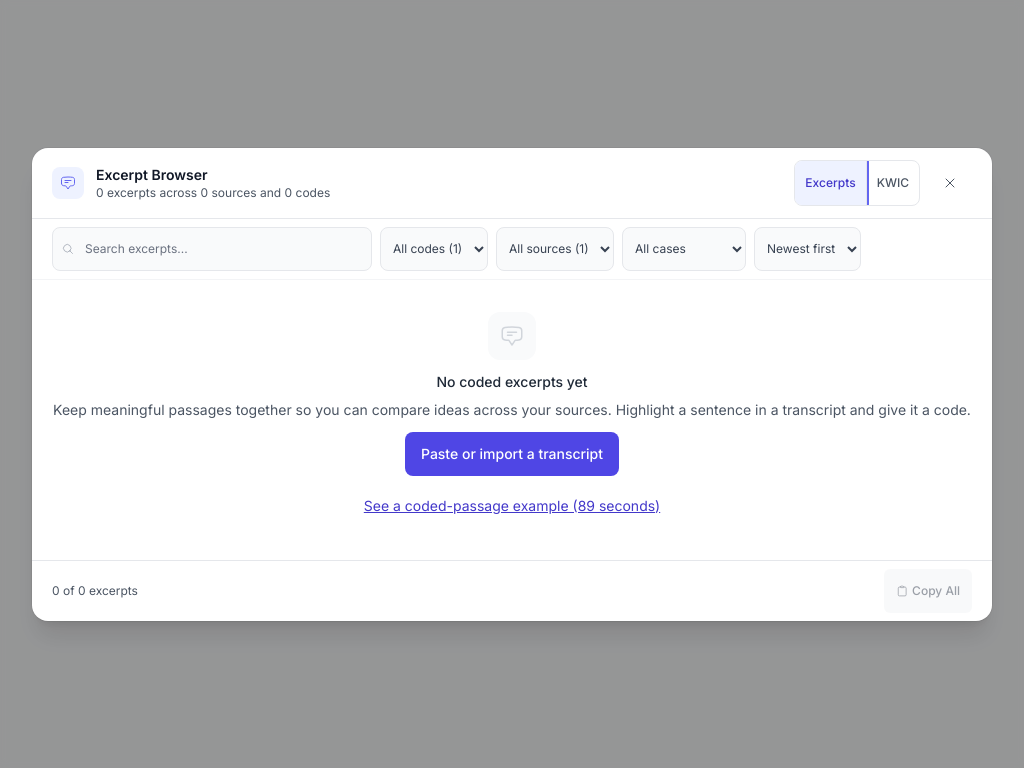
excerpt browser first-run and recovery › teaches keyword search and trims accidental surrounding spaces
This screenshot has width=1024, height=768.
Click the button "KWIC" at (892, 182), box [866, 160, 919, 204]
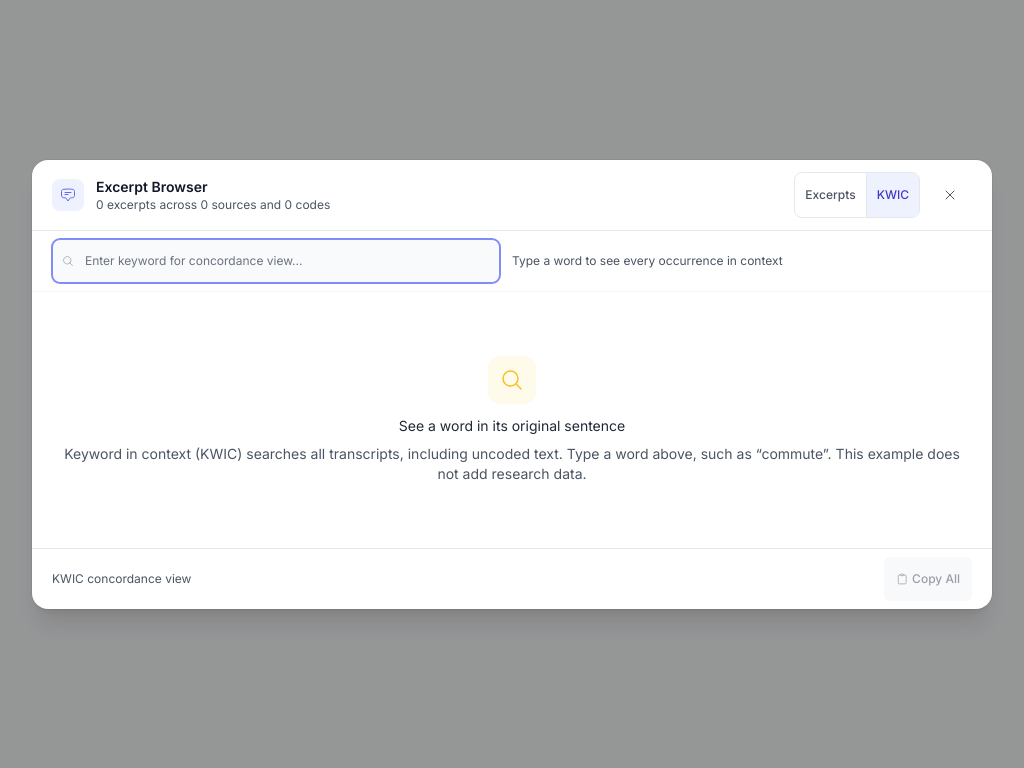
expect the text "See a word in its original sentence" is shown: met, box [399, 416, 625, 434]
Type " commute " into the field named "Keyword in context" at (276, 260), box [52, 238, 500, 282]
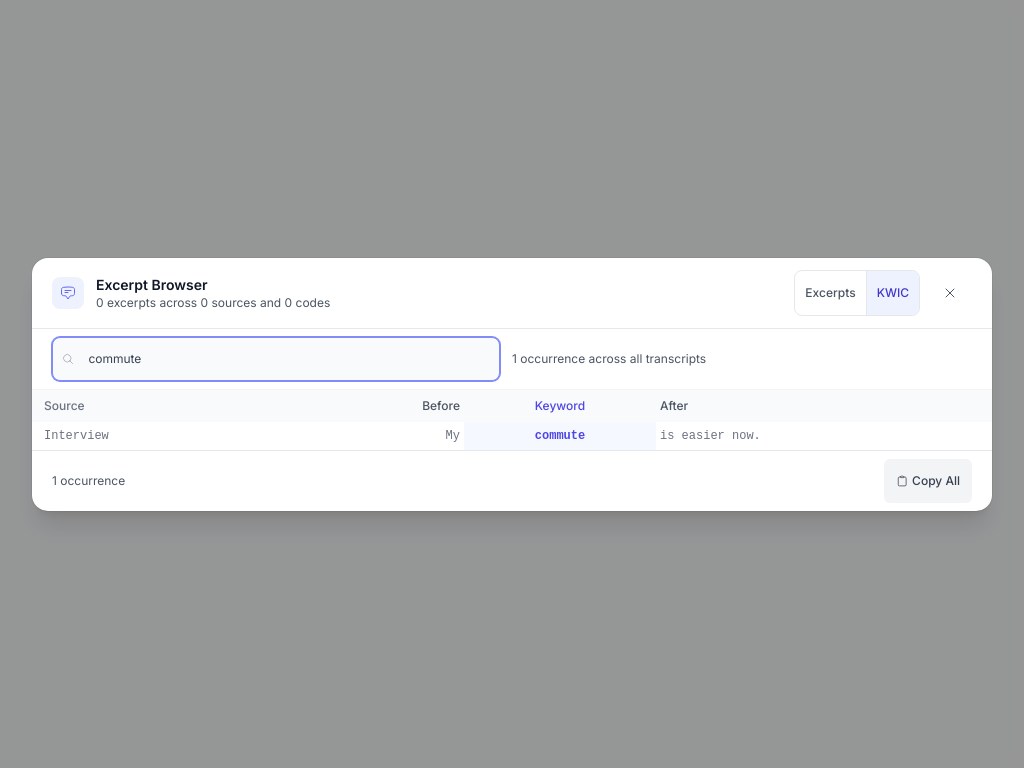
expect the text "commute" is shown: met, box [464, 422, 656, 450]
expect the table named "Keyword occurrences" is shown: met, box [32, 390, 992, 450]
